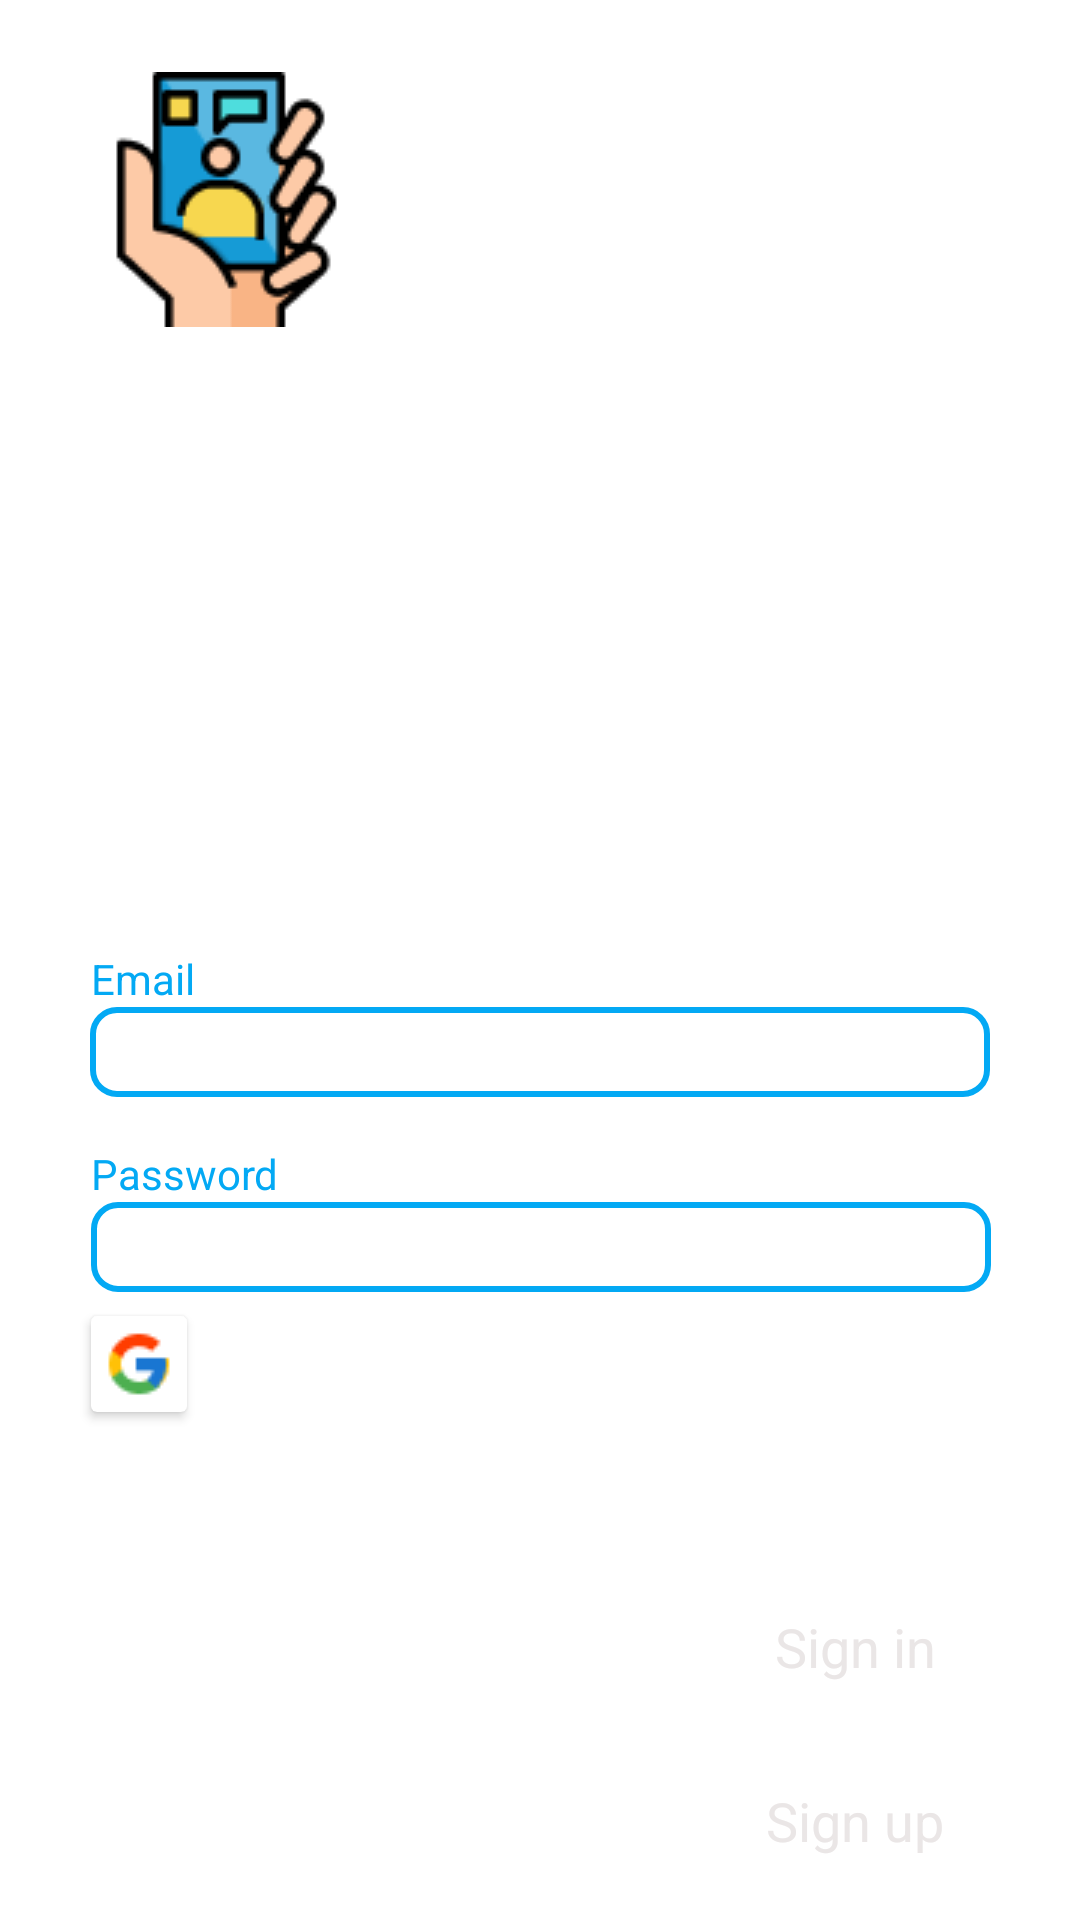

Where to tap for icons on this 1080px x 1920px app screen, as (x=x, y=y):
video calling: (x=226, y=199)
